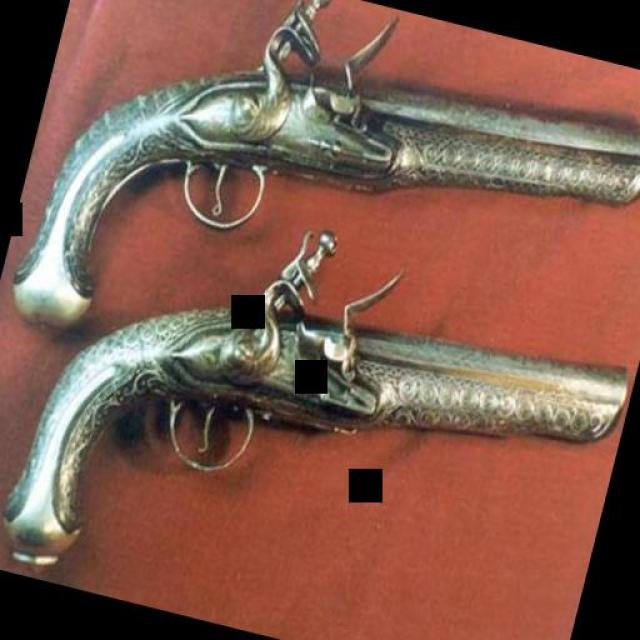gun: (0, 125, 640, 640), (2, 0, 640, 459)
